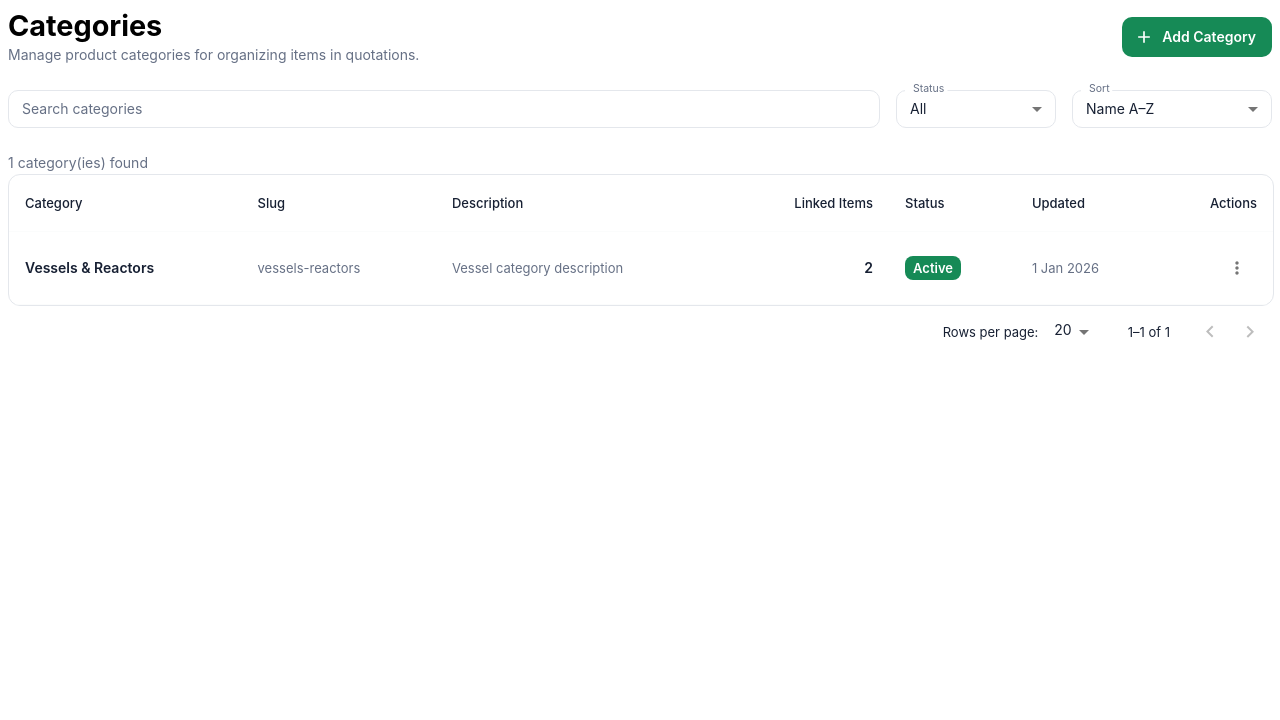
Test: category frontend › displays backend deletion conflict when items are linked to a category
expect the text "Vessels & Reactors" is shown: met, box left=25, top=257, right=154, bottom=279
Click the button named "actions for vessels & reactors". click: [1237, 268]
box: left=1217, top=248, right=1257, bottom=288
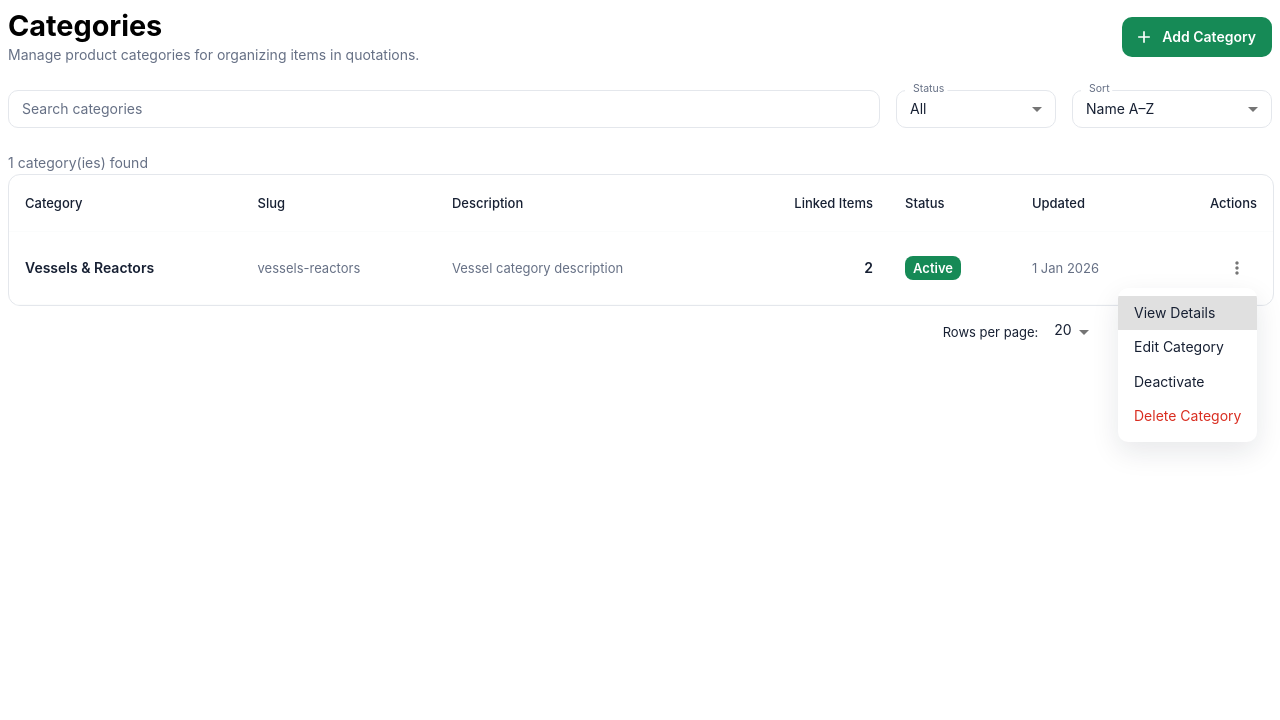
Click the menu item "Delete Category". click: [1188, 416]
box: left=1134, top=407, right=1241, bottom=424
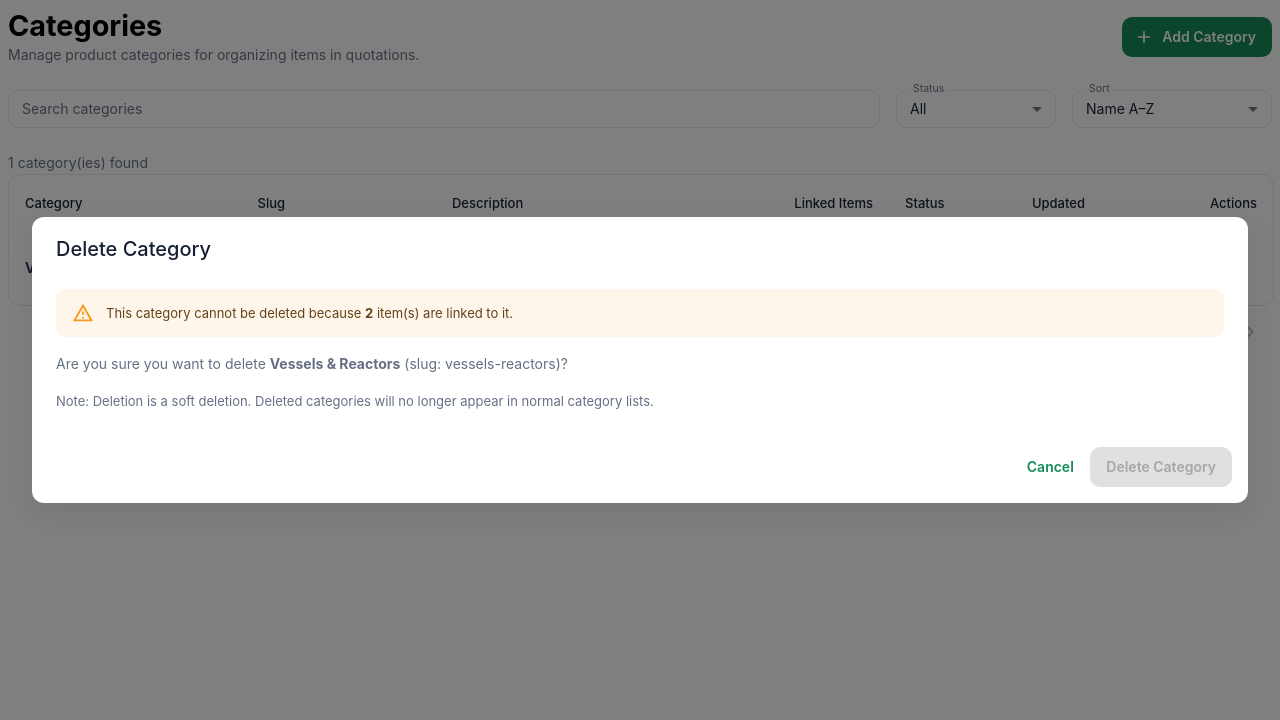
expect the text "cannot be deleted because" is shown: met, box left=106, top=305, right=365, bottom=321
expect the button "Delete Category" is disabled: met, box left=1090, top=447, right=1232, bottom=487
